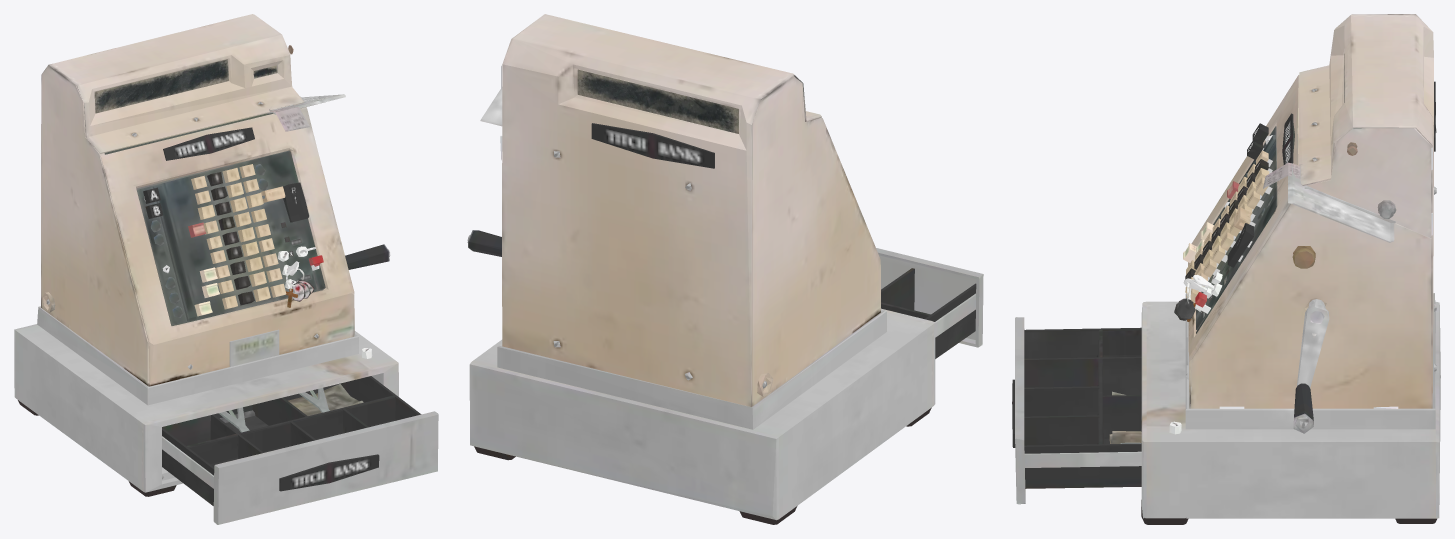
The picture shows the model from 3 angles, left to right: view 1: azimuth 30°, elevation 25°; view 2: azimuth 150°, elevation 25°; view 3: azimuth 270°, elevation 25°; orthographic projection. The views are drawn at different scales.
Visible parts, largest first — view 1: CashRegister_01_body; view 2: CashRegister_01_body; view 3: CashRegister_01_body.
Part boxes in pixels (x1,y1,x2,y2): CashRegister_01_body: (14,14,438,524); CashRegister_01_body: (467,14,983,524); CashRegister_01_body: (1012,14,1440,524).
Size of the model in its own units: 0.5984 by 0.6206 by 0.6242.
2 materials, 2 textured.
